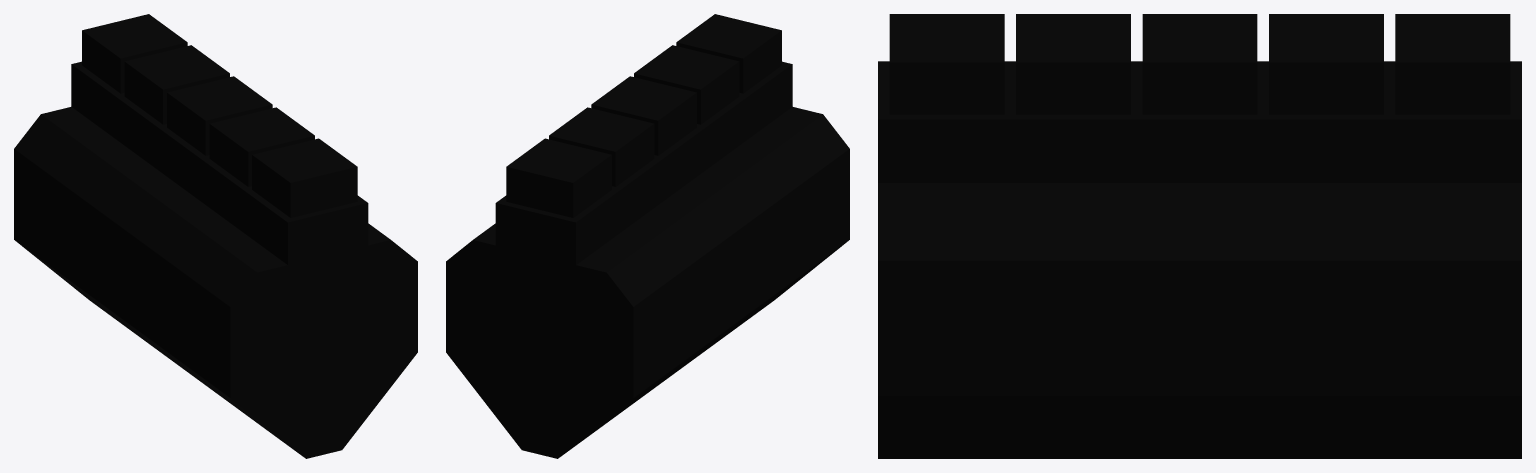
The model's file is v5performantemanual.obj.
3 renders of one model, left to right at view 1: azimuth 30°, elevation 25°; view 2: azimuth 150°, elevation 25°; view 3: azimuth 270°, elevation 25°, orthographic. The views are drawn at different scales.
Parts seen in each view (by area): view 1: cube; view 2: cube; view 3: cube.
Part boxes in pixels (box(x1,y1,x2,y2)): cube: box(14, 14, 417, 458); cube: box(446, 14, 849, 458); cube: box(878, 14, 1521, 458).
Size of the model in its own units: 0.3589 by 0.5049 by 0.7177.
